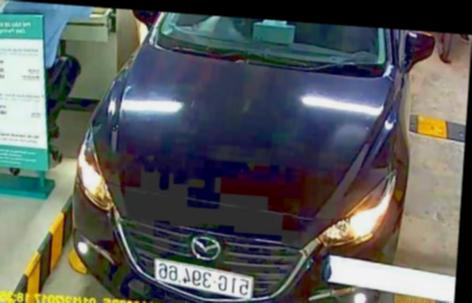License_Plate: (152, 260, 255, 295)
